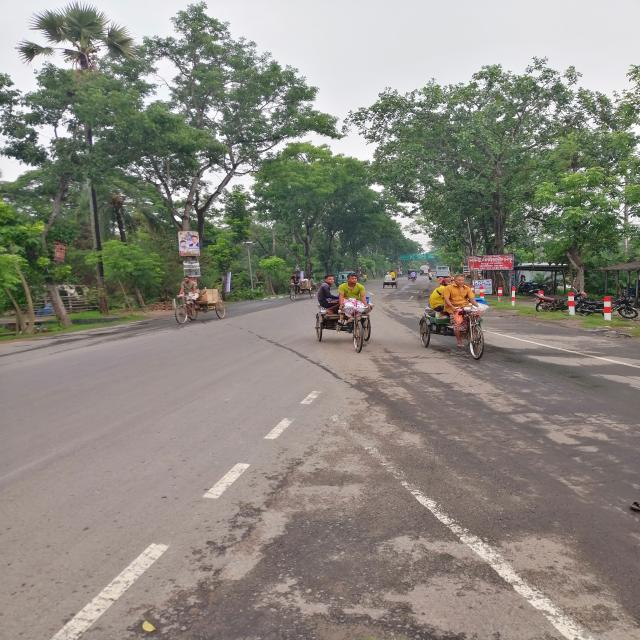Van: (413, 301, 501, 363), (296, 300, 388, 356), (166, 290, 230, 327)
